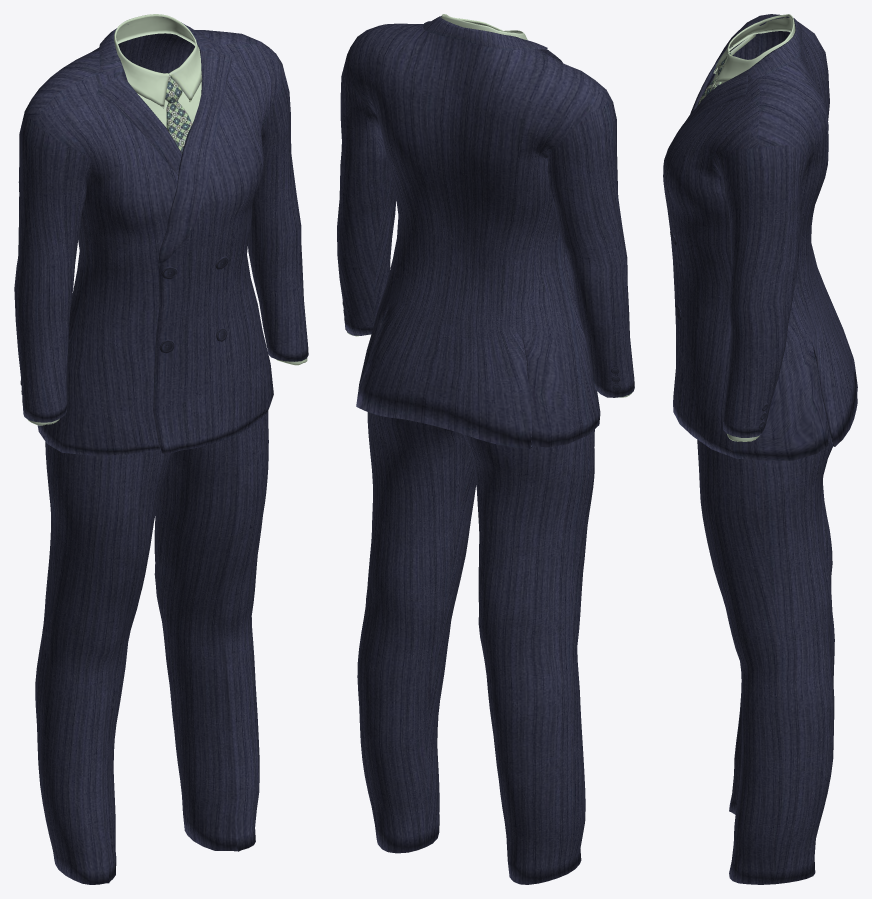
The model's file is full_suit_double_breasted.gltf.
3 renders of one model, left to right at view 1: azimuth 30°, elevation 25°; view 2: azimuth 150°, elevation 25°; view 3: azimuth 270°, elevation 25°, orthographic. The views are drawn at different scales.
Parts seen in each view (by area): view 1: full_suit_double_breasted; view 2: full_suit_double_breasted; view 3: full_suit_double_breasted.
Part boxes in pixels (x1=…): full_suit_double_breasted: x1=14, y1=14, x2=308, y2=884; full_suit_double_breasted: x1=337, y1=14, x2=634, y2=884; full_suit_double_breasted: x1=663, y1=14, x2=857, y2=884.
Bounding box in the file's own units: 0.4943 × 1.4 × 0.302.
Materials: 1 (1 with a texture image).
